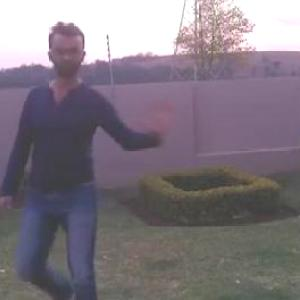follow_hand: (145, 90, 182, 137)
